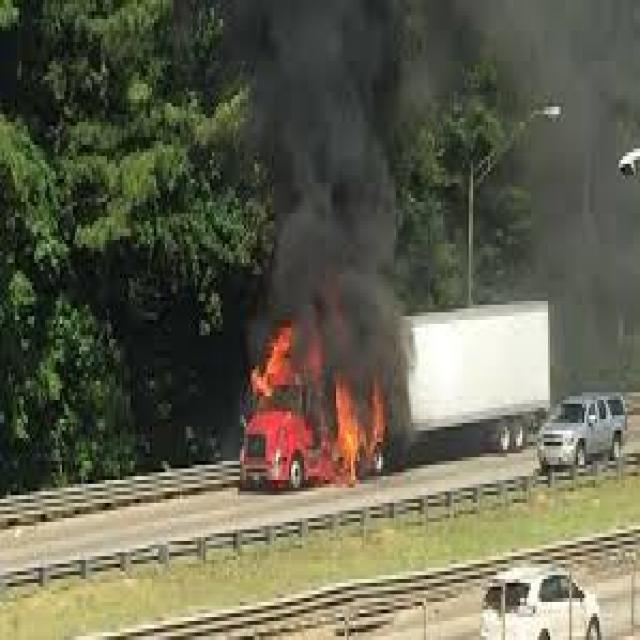fire: (240, 313, 402, 492)
smoke: (235, 4, 402, 381)
